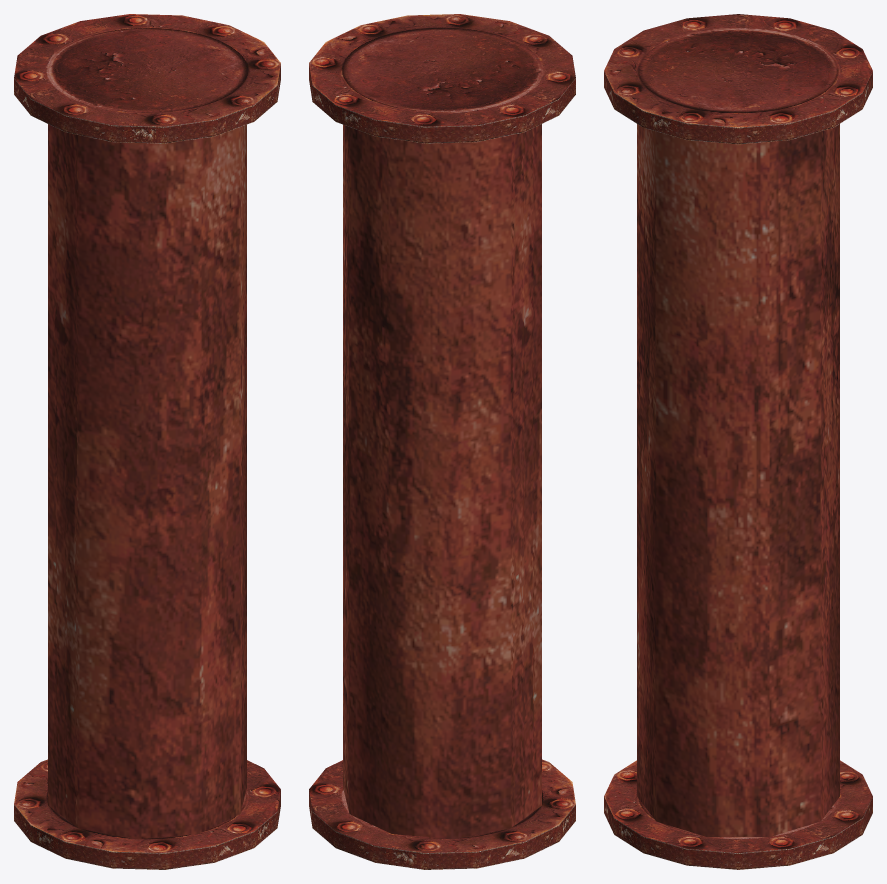
File: 2m_red.DAE
The picture shows the model from 3 angles, left to right: view 1: azimuth 30°, elevation 25°; view 2: azimuth 150°, elevation 25°; view 3: azimuth 270°, elevation 25°; orthographic projection.
Parts seen in each view (by area): view 1: Object366, Object376; view 2: Object366, Object376; view 3: Object366, Object376.
Boxes of the visible parts, x1,y1,x2,y2 form: Object366: (48, 124, 246, 839); Object376: (14, 14, 280, 869); Object366: (343, 124, 541, 839); Object376: (309, 14, 575, 869); Object366: (637, 124, 839, 836); Object376: (604, 14, 872, 869).
Bounding box in the file's own units: 0.6566 × 0.6566 × 2.
